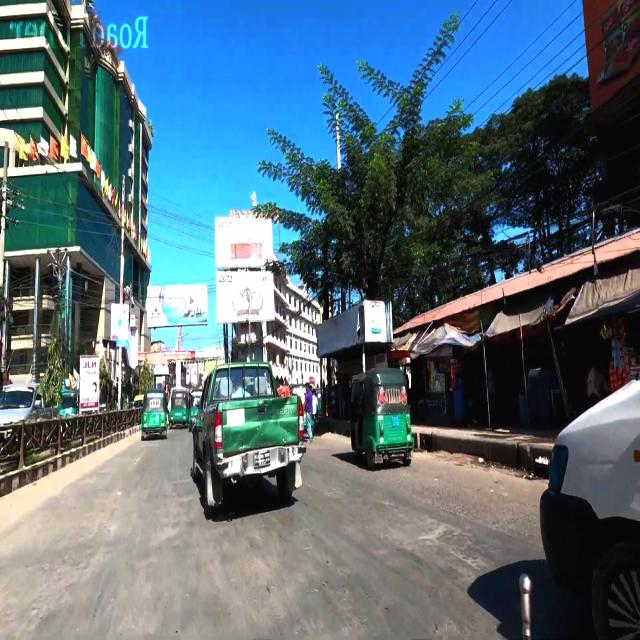silver: (0, 379, 58, 431)
white: (538, 358, 640, 639)
